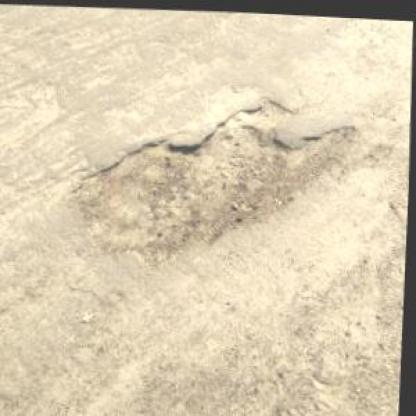pothole: (61, 82, 363, 283)
